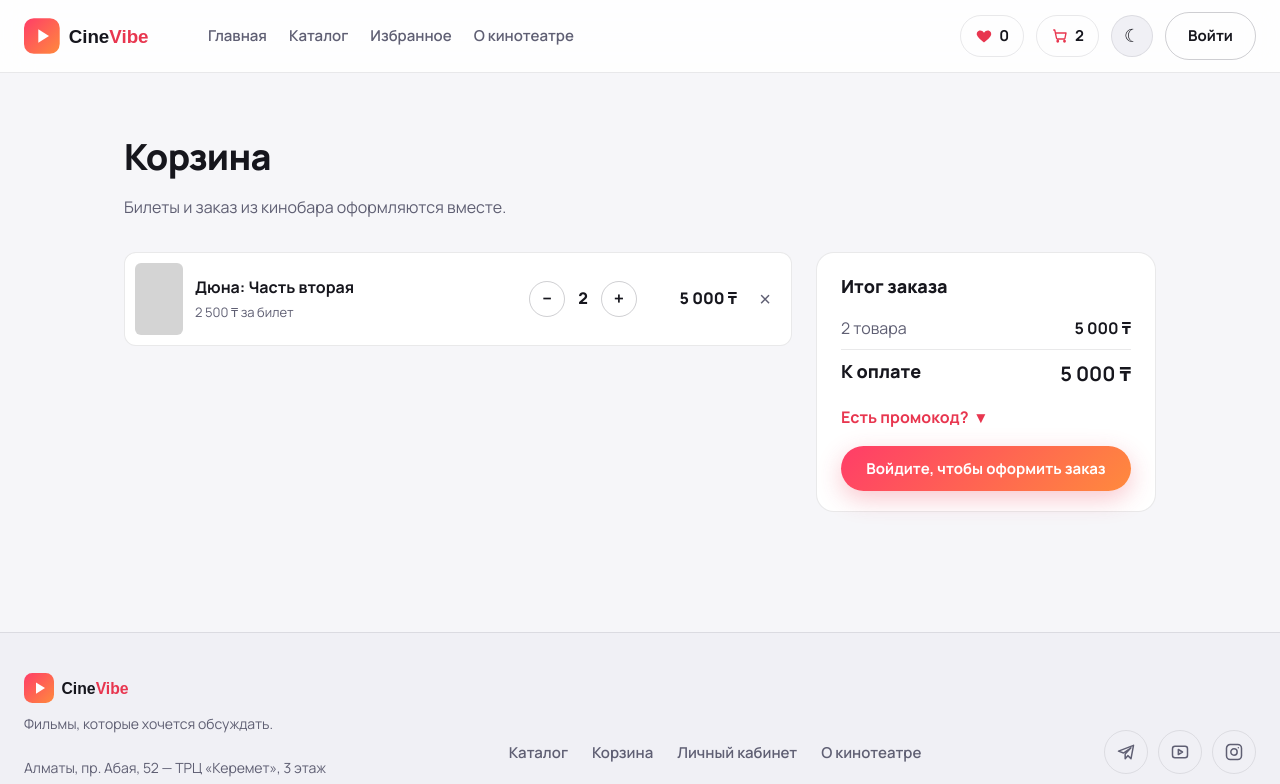
Test: Корзина /cart › промокод CINEVIBE10 даёт скидку 10%, неверный — сообщение и фокус в поле
This screenshot has width=1280, height=784.
Click the button "Есть промокод?": (913, 418) [841,405,985,430]
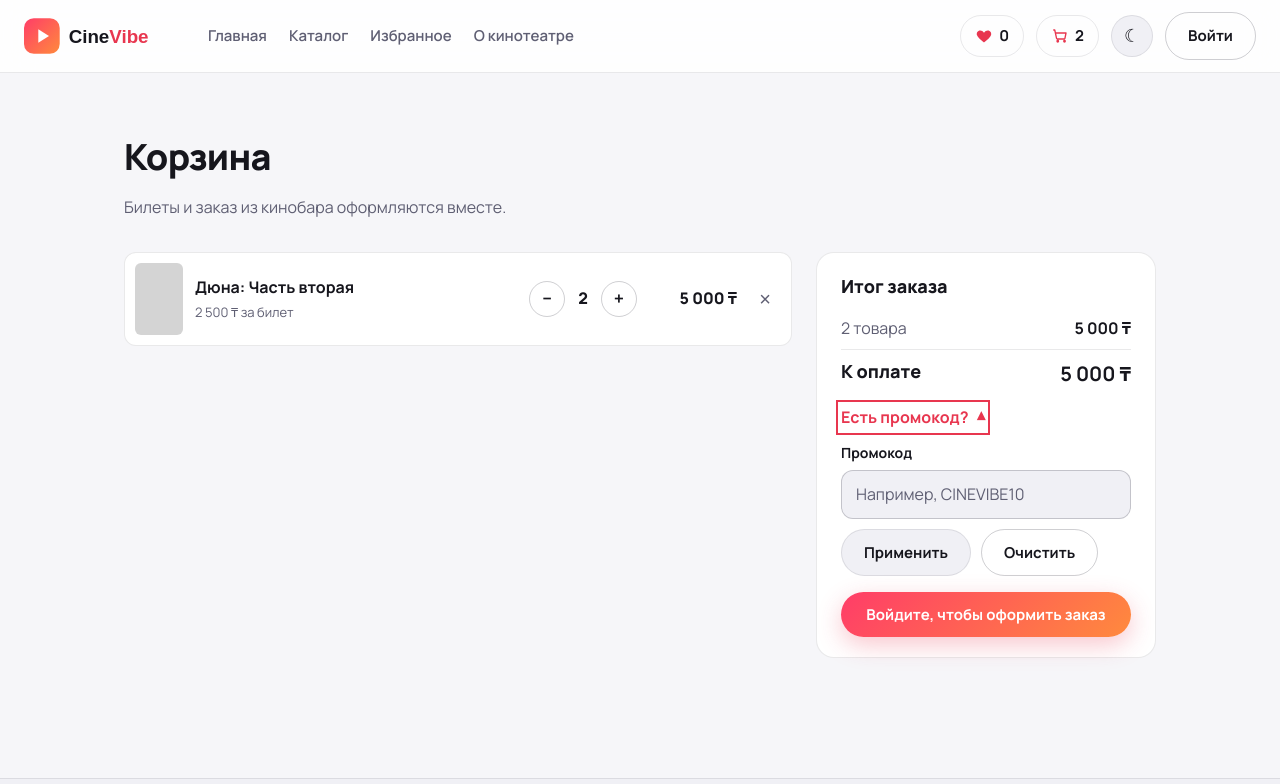
In the field labelled "Промокод": (986, 494) [841,470,1131,519], type "КИНО"
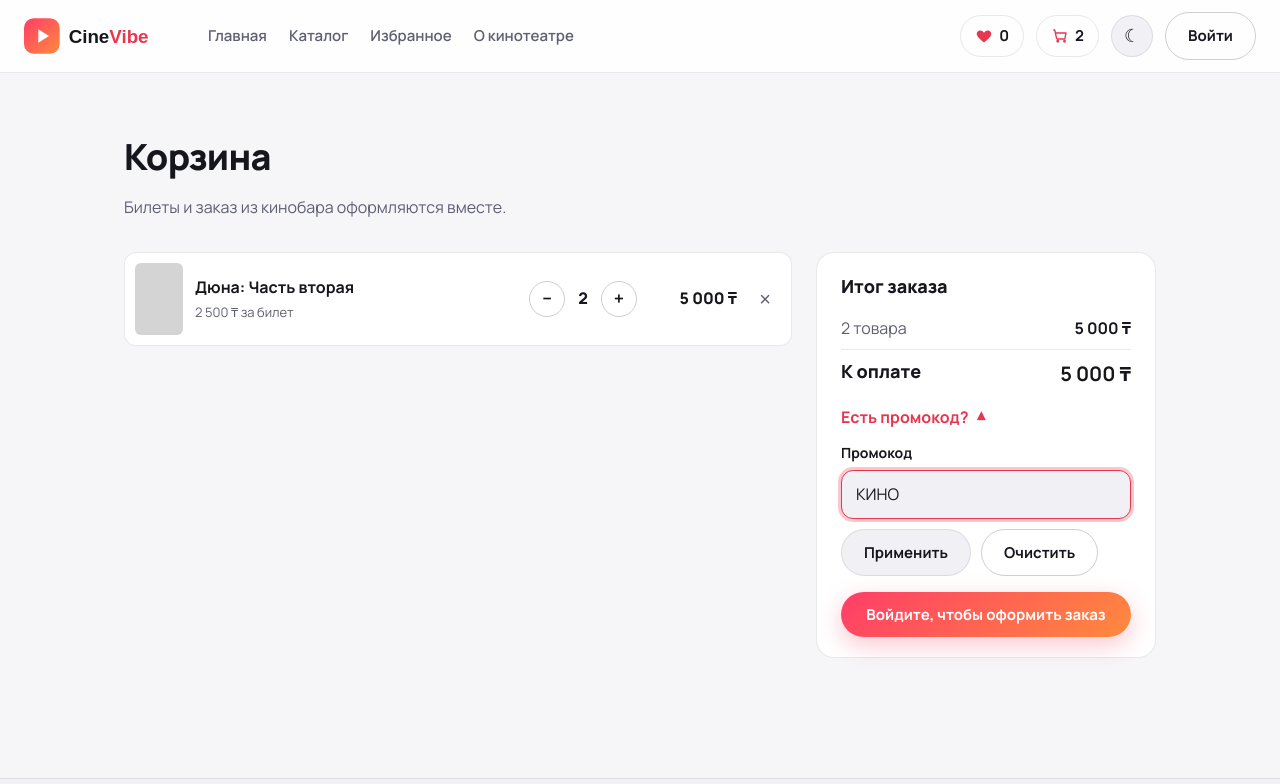
Click the button "Применить": (906, 552) [841,529,971,576]
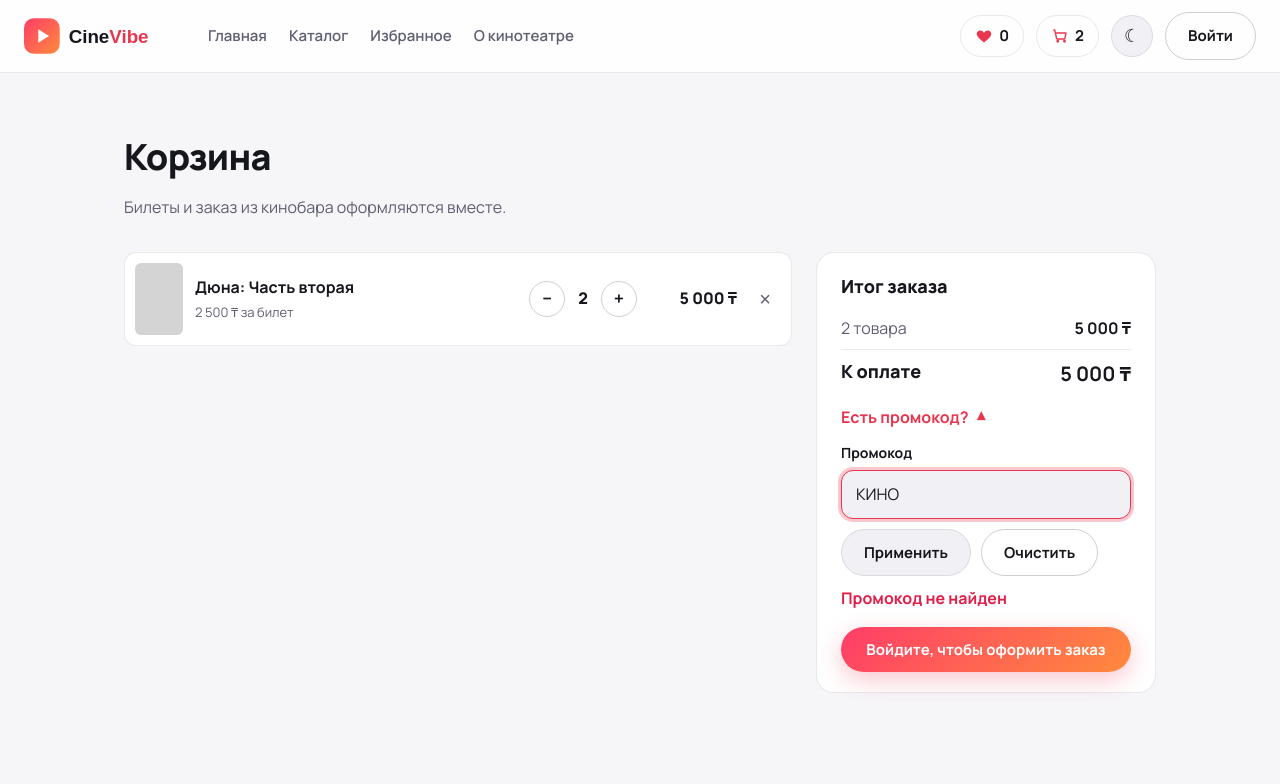
Now the text "Промокод не найден" is shown, box [841,587,1007,609]
Click the button "Очистить": (1040, 552) [981,529,1098,576]
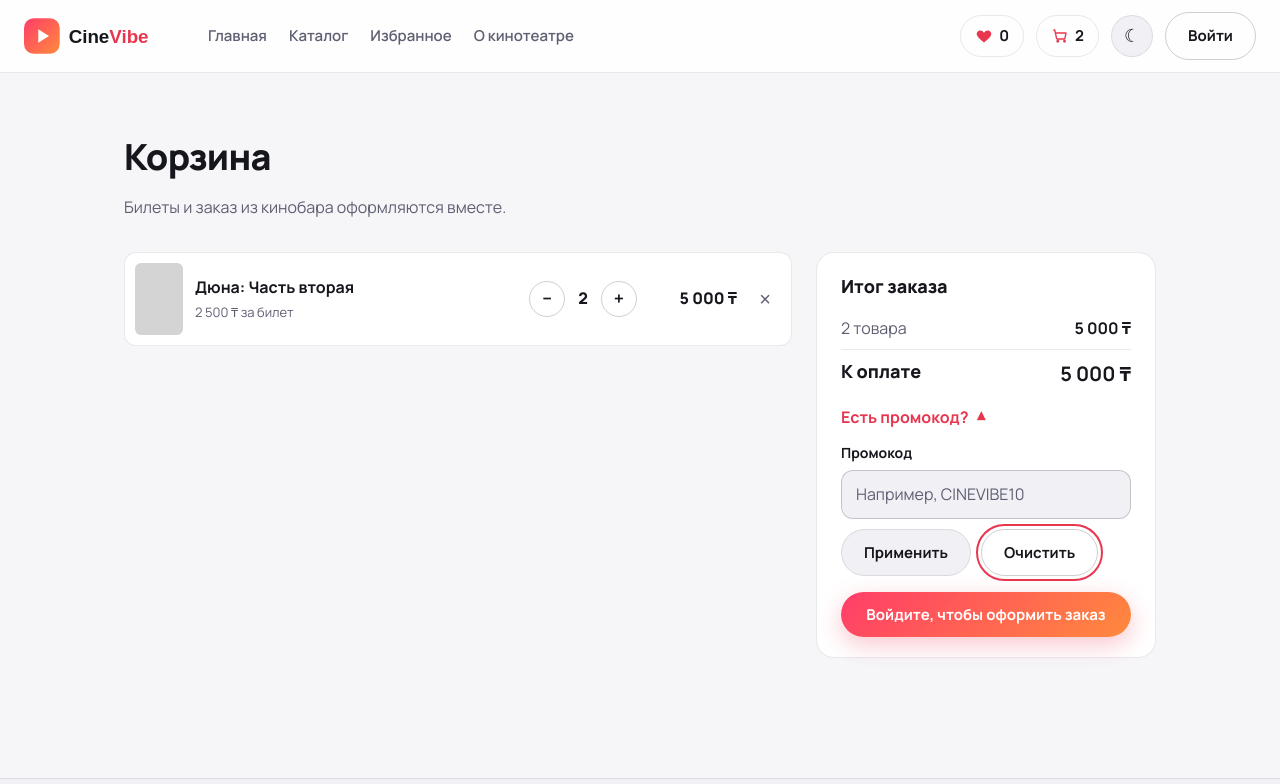
In the field labelled "Промокод": (986, 494) [841,470,1131,519], type "cinevibe10"
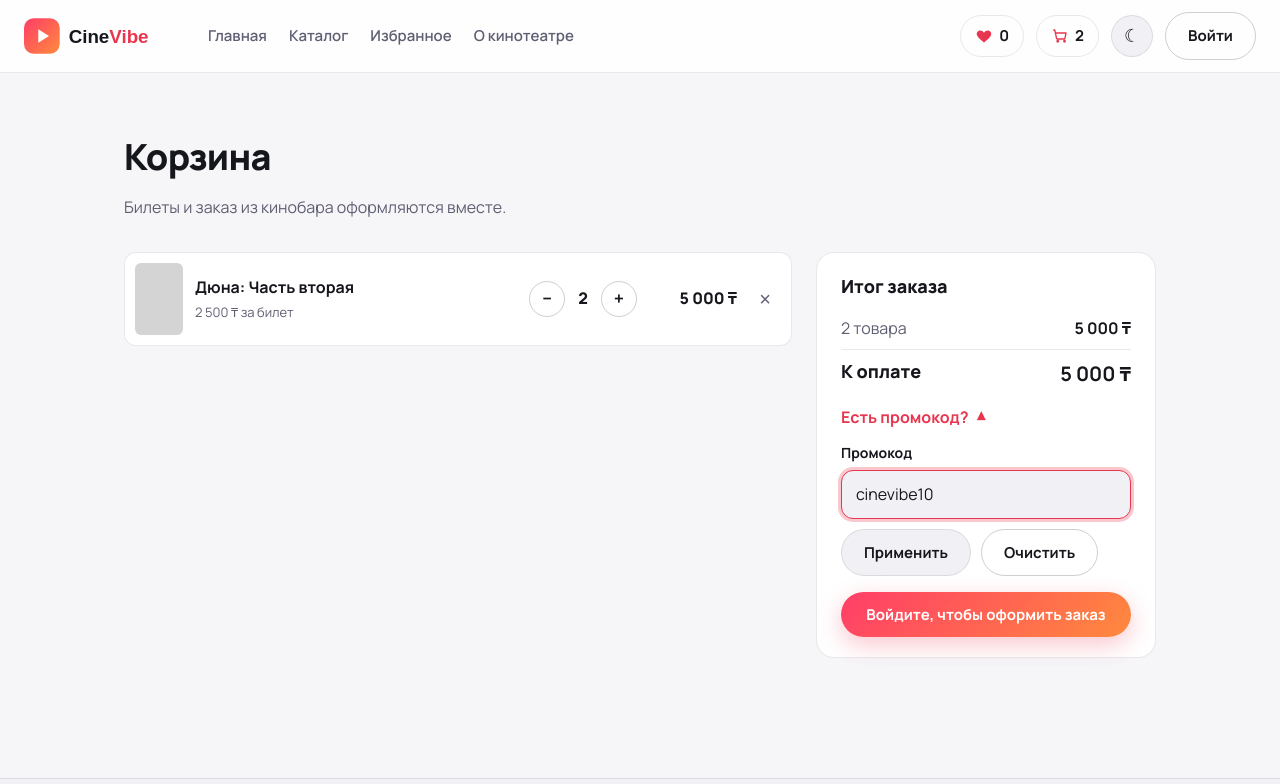
Click the button "Применить": (906, 552) [841,529,971,576]
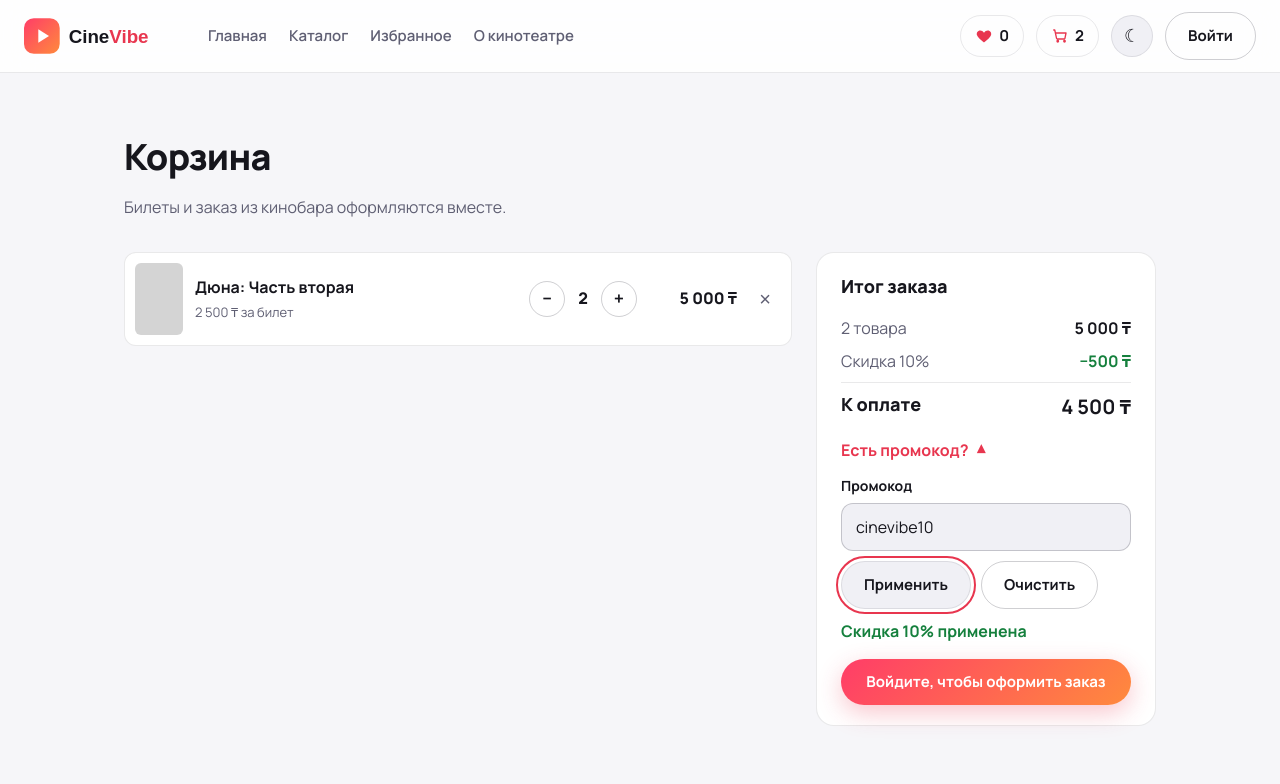
Now the text "Скидка 10% применена" is shown, box [841,620,1027,642]
Now the text "4 500 ₸" is shown, box [1061,391,1131,422]
